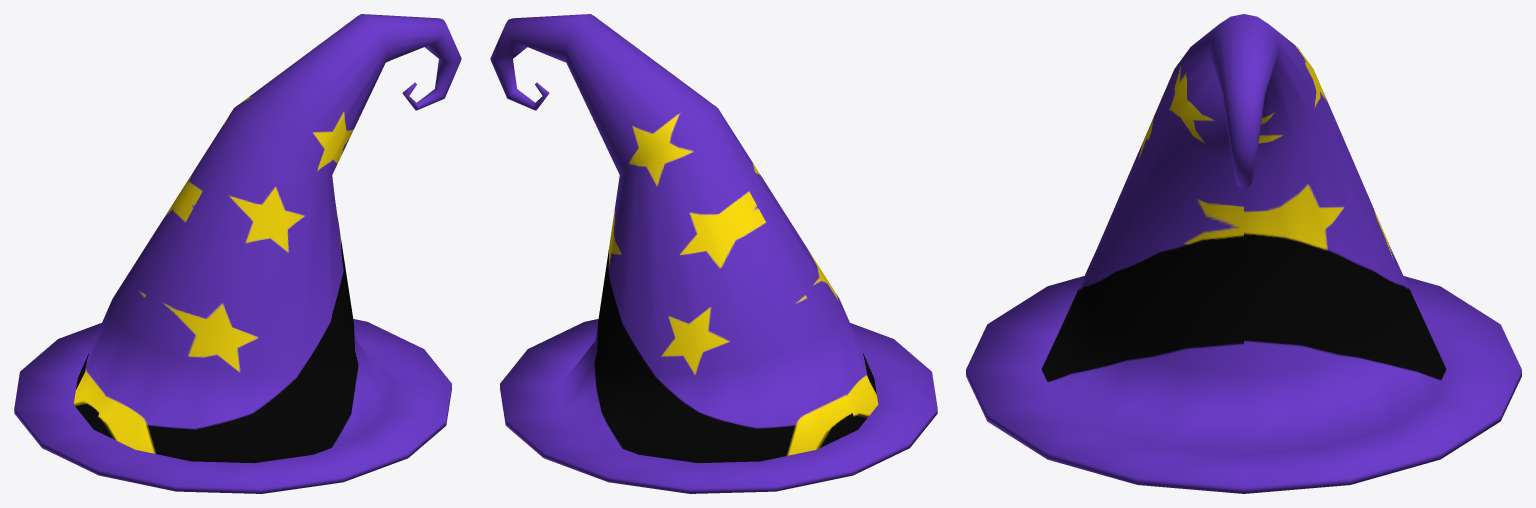
The model's file is SpellcasterHat.fbx.
The picture shows the model from 3 angles, left to right: view 1: azimuth 30°, elevation 25°; view 2: azimuth 150°, elevation 25°; view 3: azimuth 270°, elevation 25°; orthographic projection. The views are drawn at different scales.
Parts seen in each view (by area): view 1: HatMesh; view 2: HatMesh; view 3: HatMesh.
Part boxes in pixels (bbox=[...]): HatMesh: bbox=[14, 14, 461, 493]; HatMesh: bbox=[490, 14, 937, 493]; HatMesh: bbox=[966, 14, 1521, 493].
Size of the model in its own units: 4.35 by 3.5 by 3.97.
1 material, 1 textured.
